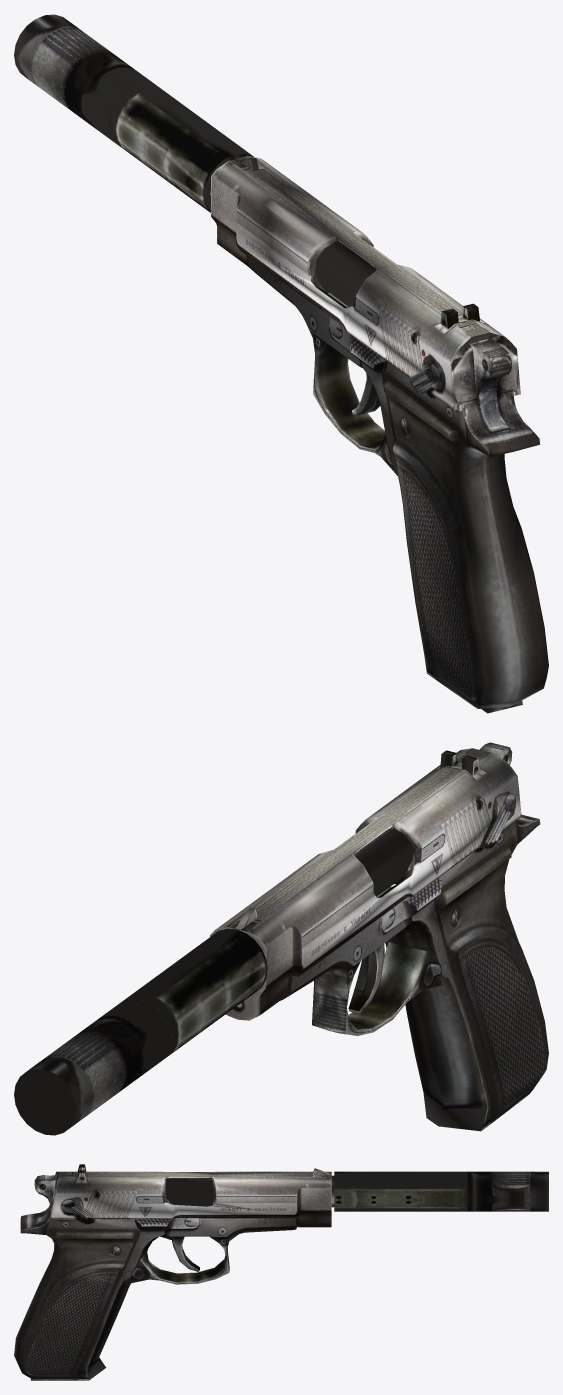
The model's file is wpn_fort_hud.fbx.
The picture shows the model from 3 angles, top to bottom: view 1: azimuth 30°, elevation 25°; view 2: azimuth 150°, elevation 25°; view 3: azimuth 270°, elevation 25°; orthographic projection. The views are drawn at different scales.
Visible parts, largest first — view 1: 0; view 2: 0; view 3: 0.
Part boxes in pixels (x1=…): 0: x1=14, y1=14, x2=548, y2=713; 0: x1=14, y1=742, x2=548, y2=1135; 0: x1=14, y1=1164, x2=548, y2=1380.
Size of the model in its own units: 0.0289 by 0.1296 by 0.3038.
